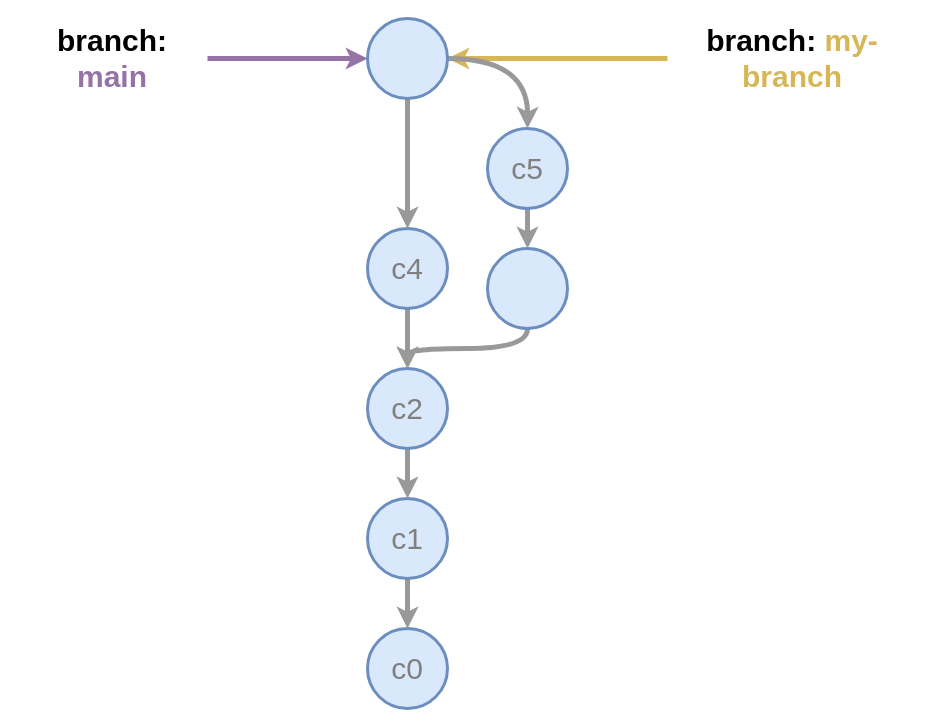
Image size: 934x727. Some labels were removed from this diagram. The box of each missing label's shape, as (x1, y1, x2, y2) in pixels:
c3: (486, 246, 568, 330)
c6: (366, 16, 448, 100)
